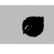correct: (21, 13, 45, 38)
